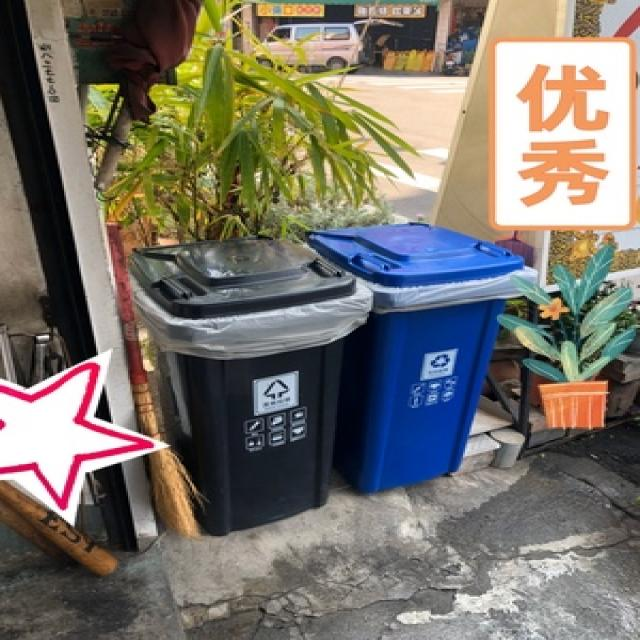ash bin: (126, 233, 369, 534), (309, 221, 532, 488)
car: (252, 18, 401, 72)
